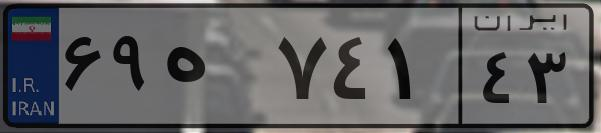1: (385, 28, 445, 110)
3: (525, 38, 570, 115)
4: (330, 28, 385, 110), (475, 38, 525, 113)
6: (57, 26, 110, 100)
7: (270, 28, 330, 110)
9: (110, 28, 158, 98)
ه: (158, 20, 270, 120)
